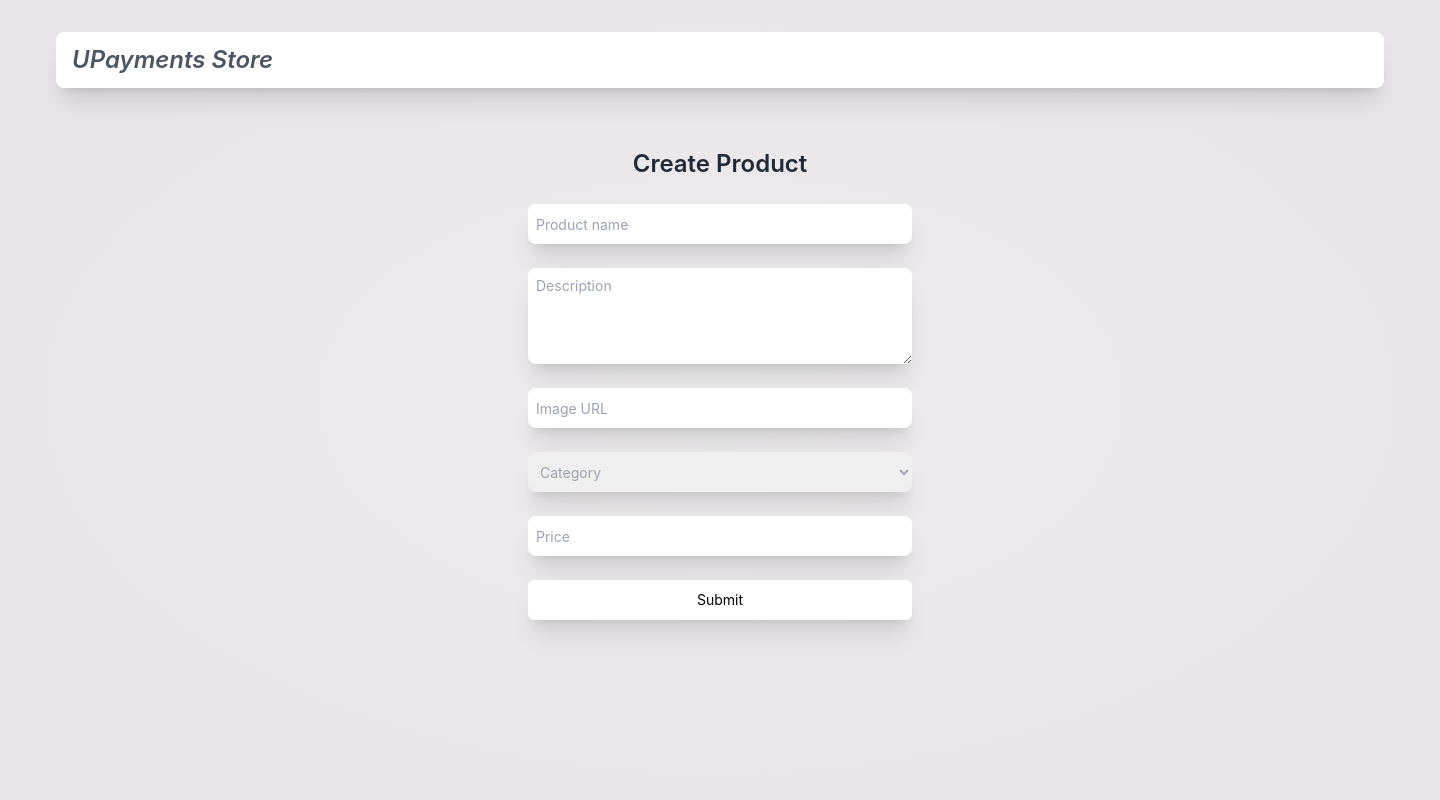
Test: Create Product Page › should open error modal if an error occurs while creating the product
Type "Test case description" into the text box with test id "description-input" at (720, 316), box 528,268 -> 912,364
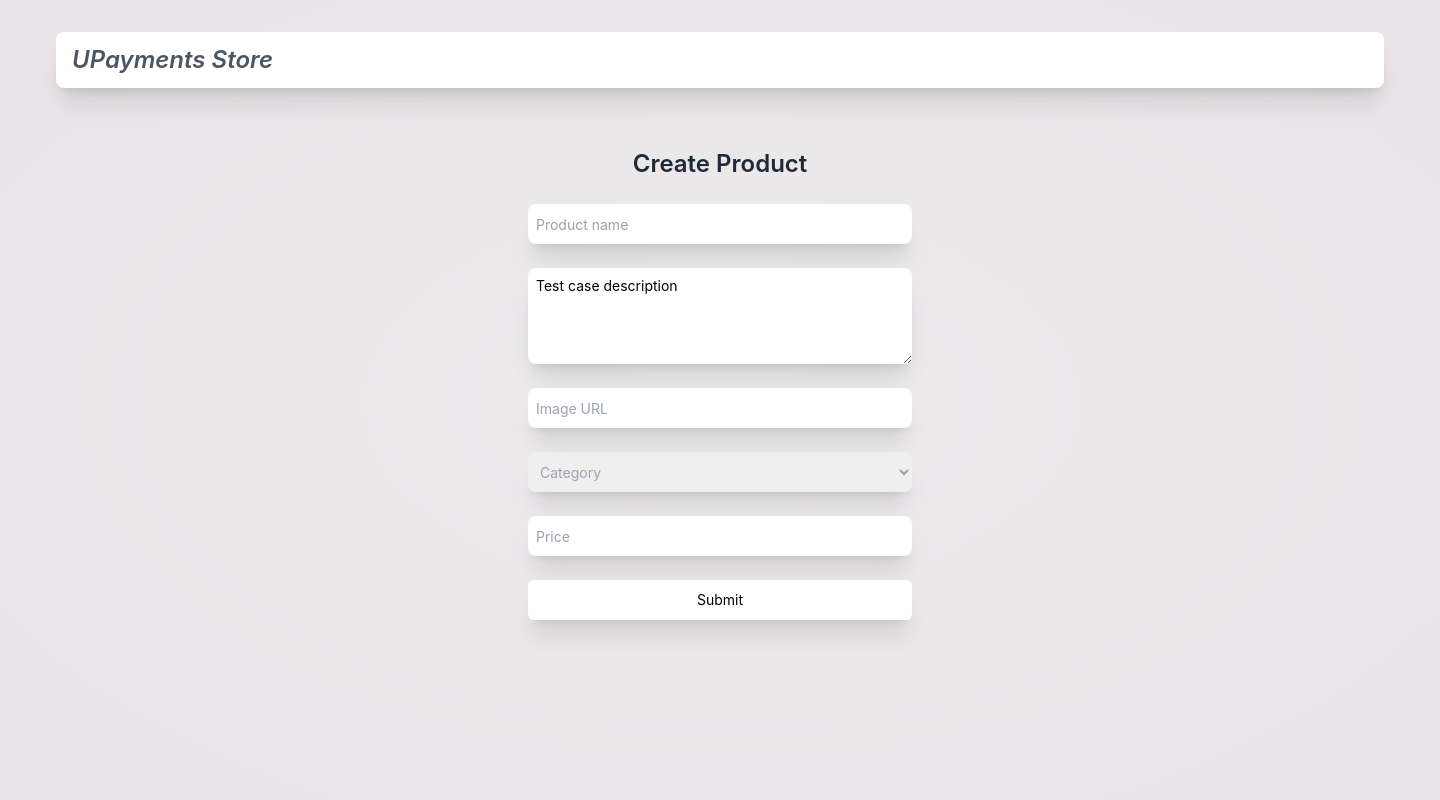
Type "Laptop" into the field with test id "name-input" at (720, 224), box 528,204 -> 912,244
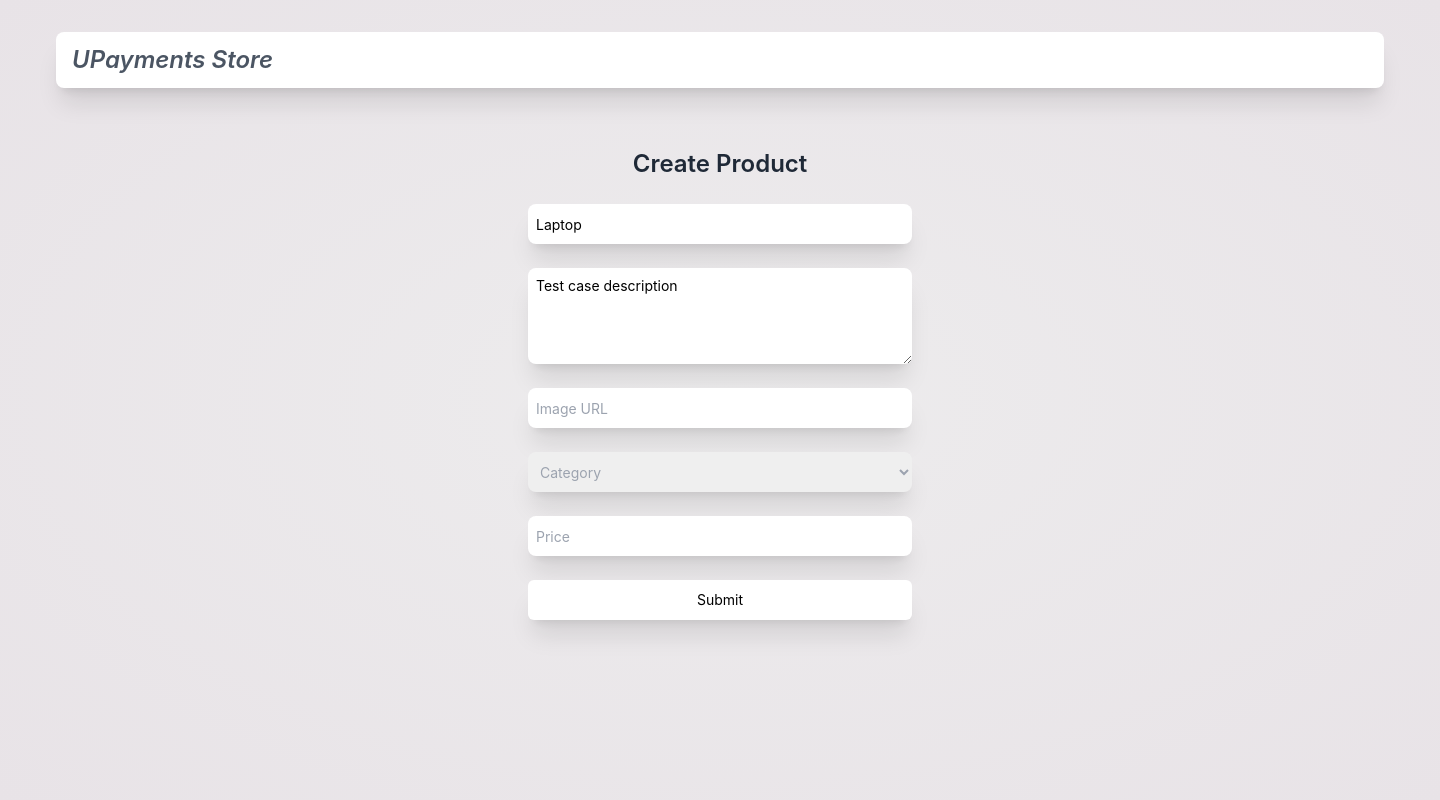
Select "Electronic" in the dropdown with test id "category-input" at (720, 472), box 528,452 -> 912,492
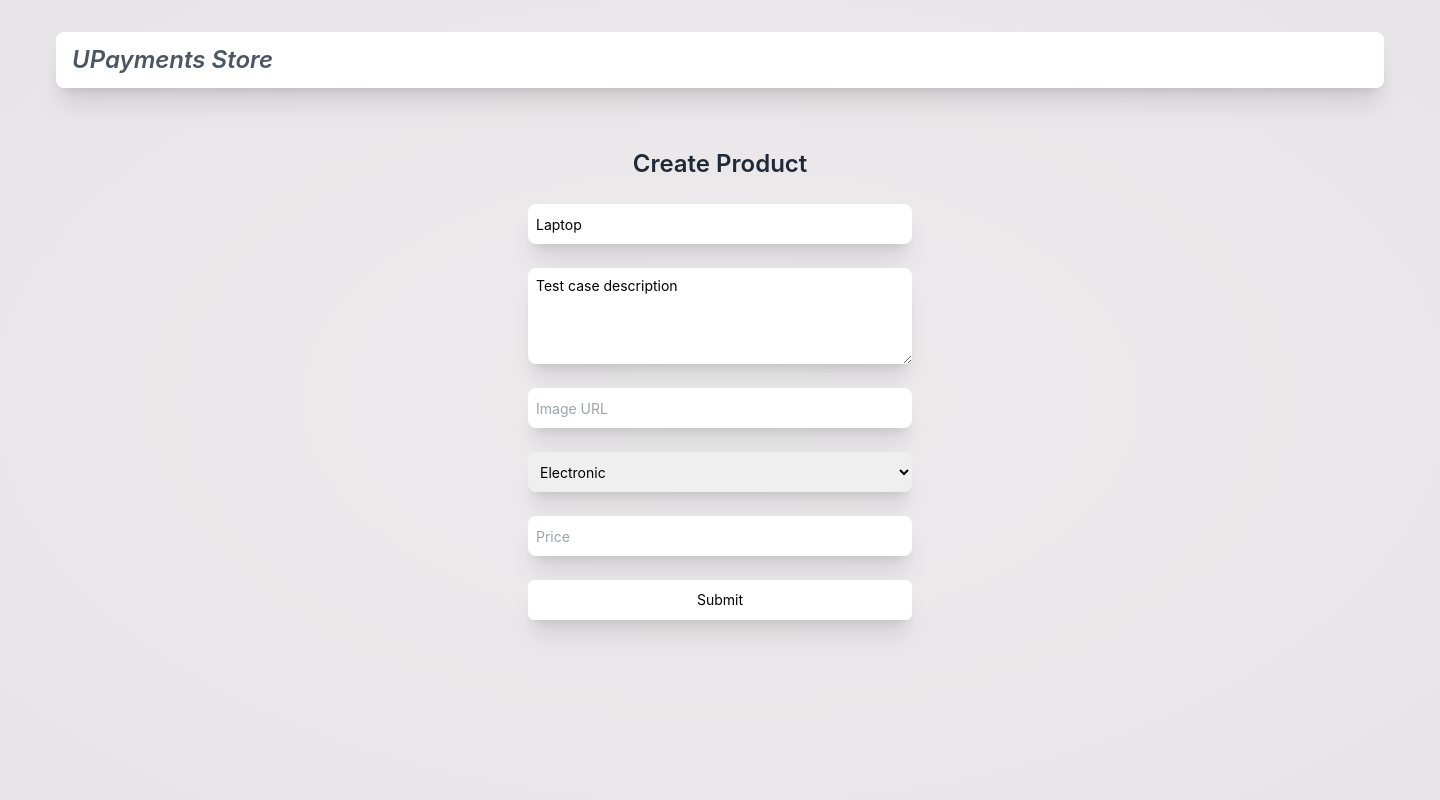
Type "https://snipstock.com/image/laptop-2746336-960-720-png-54021?download=medium" into the field with test id "avatar-input" at (720, 408), box 528,388 -> 912,428
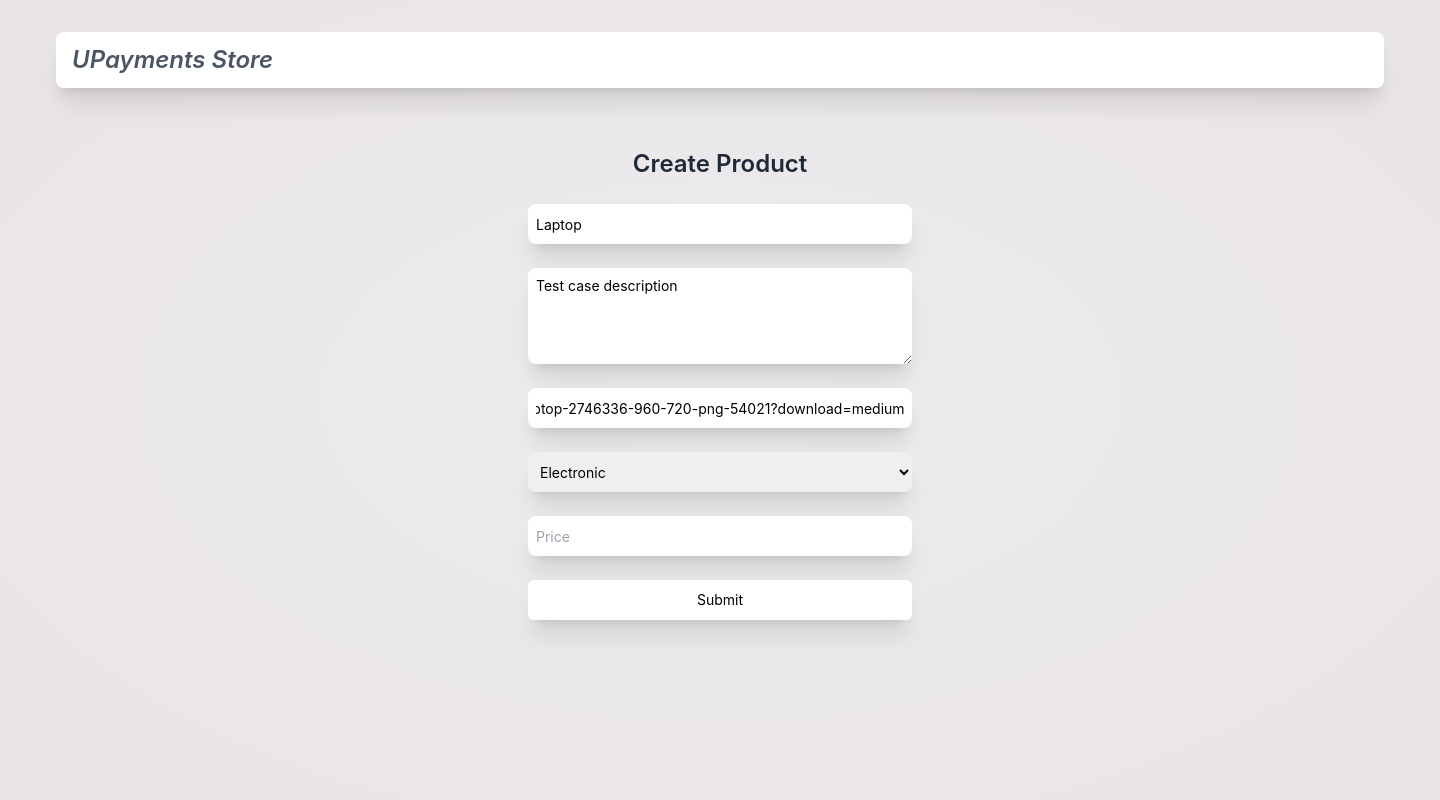
Type "1500" into the field with test id "price-input" at (720, 536), box 528,516 -> 912,556
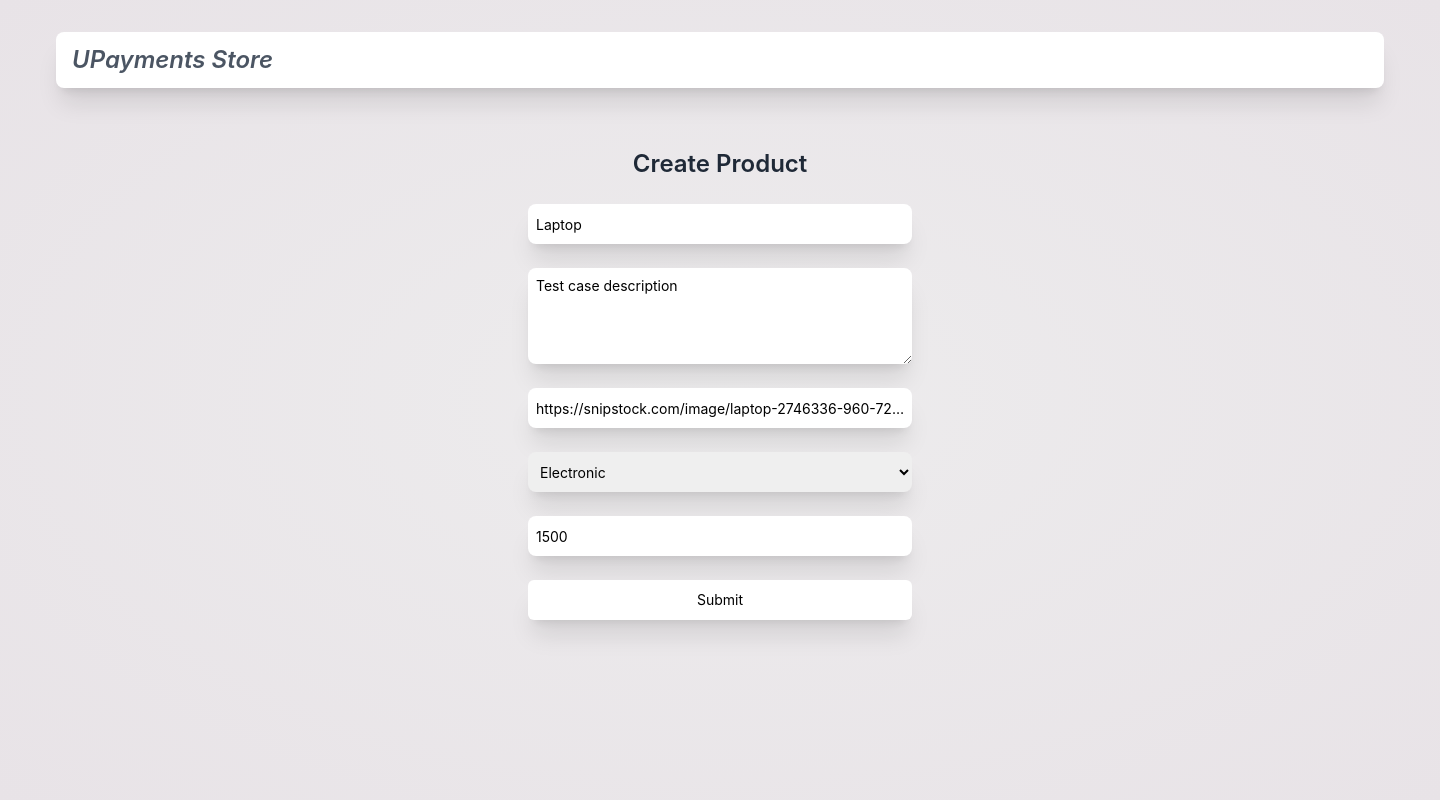
Click the button "Submit" at (720, 600), box 528,580 -> 912,620
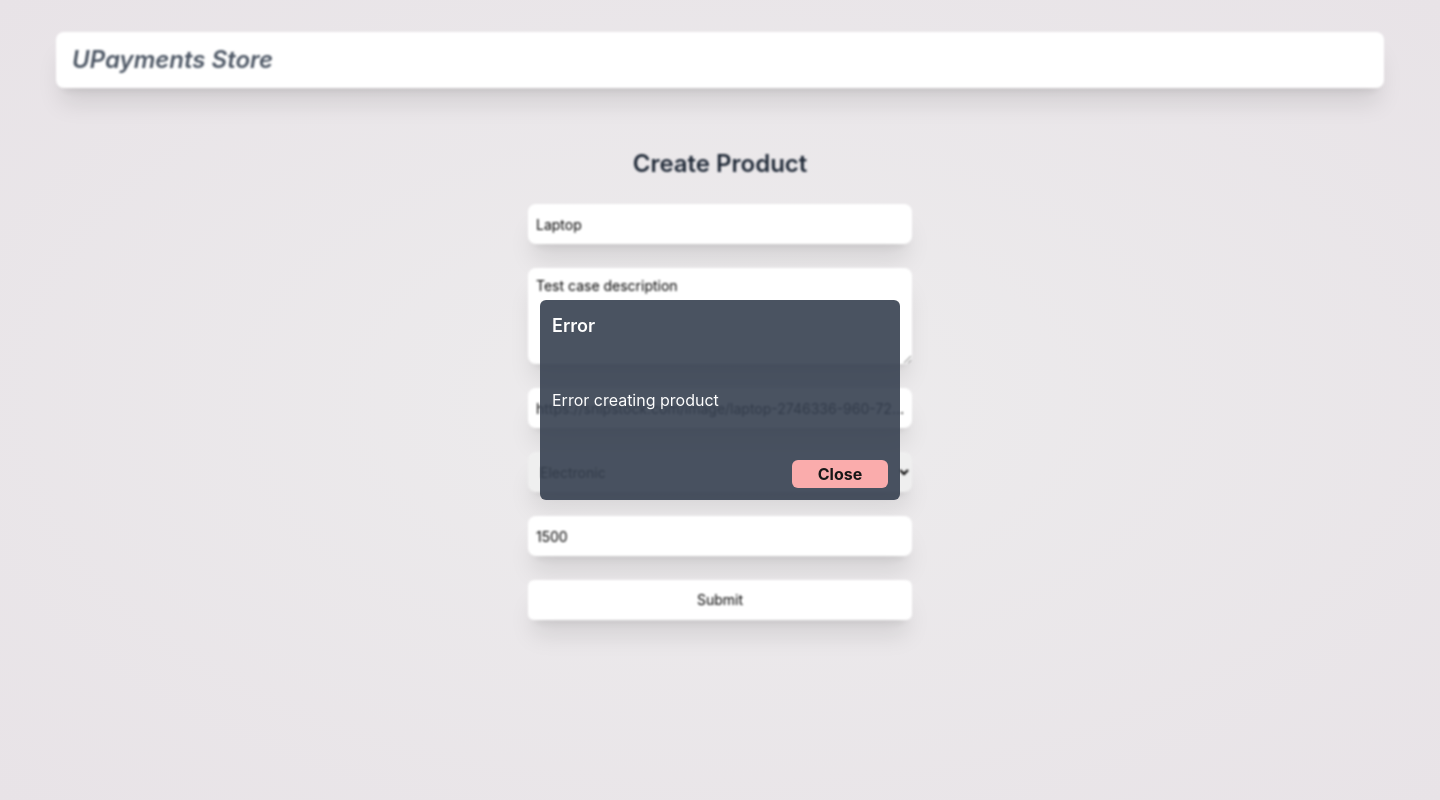
Expected: the text "Error creating product" is shown, 552,390 -> 719,410
